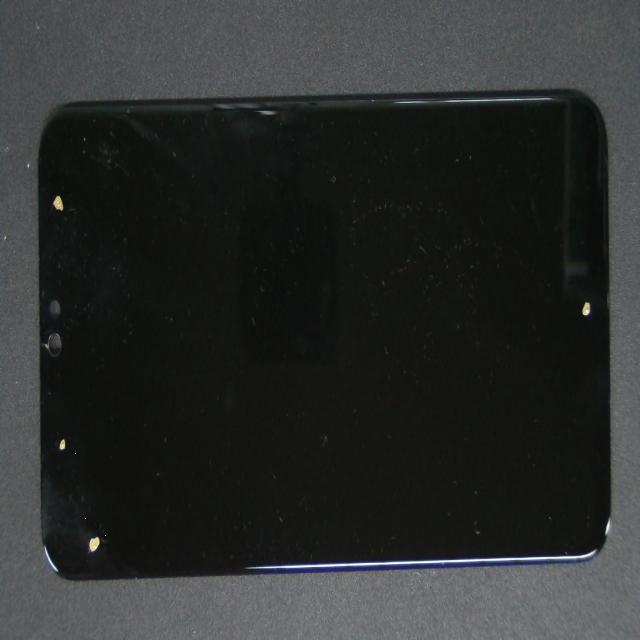stain: (282, 119, 640, 464), (36, 261, 122, 640), (24, 245, 74, 640), (9, 108, 88, 334)
